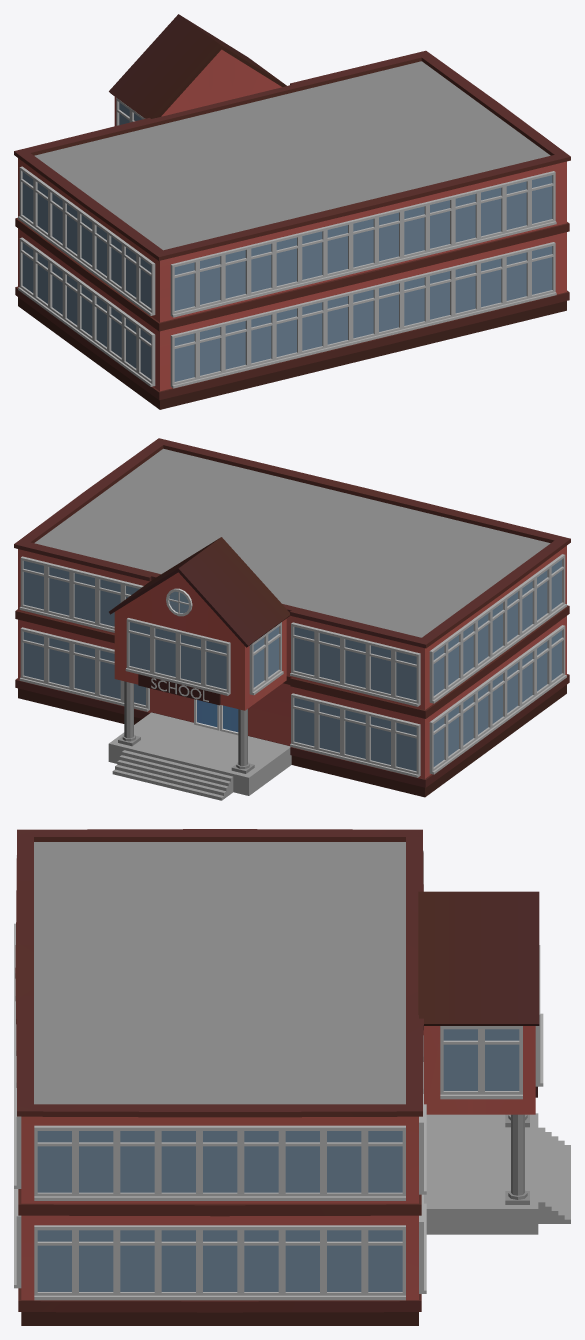
Rendered from school-building.glb.
3 views of the same model, one above another, from view 1: azimuth 30°, elevation 25°; view 2: azimuth 150°, elevation 25°; view 3: azimuth 270°, elevation 25° (orthographic). The views are drawn at different scales.
Parts seen in each view (by area): view 1: building_03.005; view 2: building_03.005; view 3: building_03.005.
Boxes of the visible parts, <box> form: building_03.005: <box>14,14,570,409</box>; building_03.005: <box>14,438,570,800</box>; building_03.005: <box>14,829,570,1325</box>.
Bounding box in the file's own units: 16.92 × 8.19 × 14.01.
Materials: 1 (1 with a texture image).
